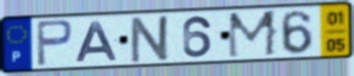6: (279, 8, 316, 57), (181, 15, 214, 60)
A: (73, 20, 121, 64)
M: (225, 8, 280, 60)
N: (128, 13, 174, 65)
P: (34, 18, 76, 68)
